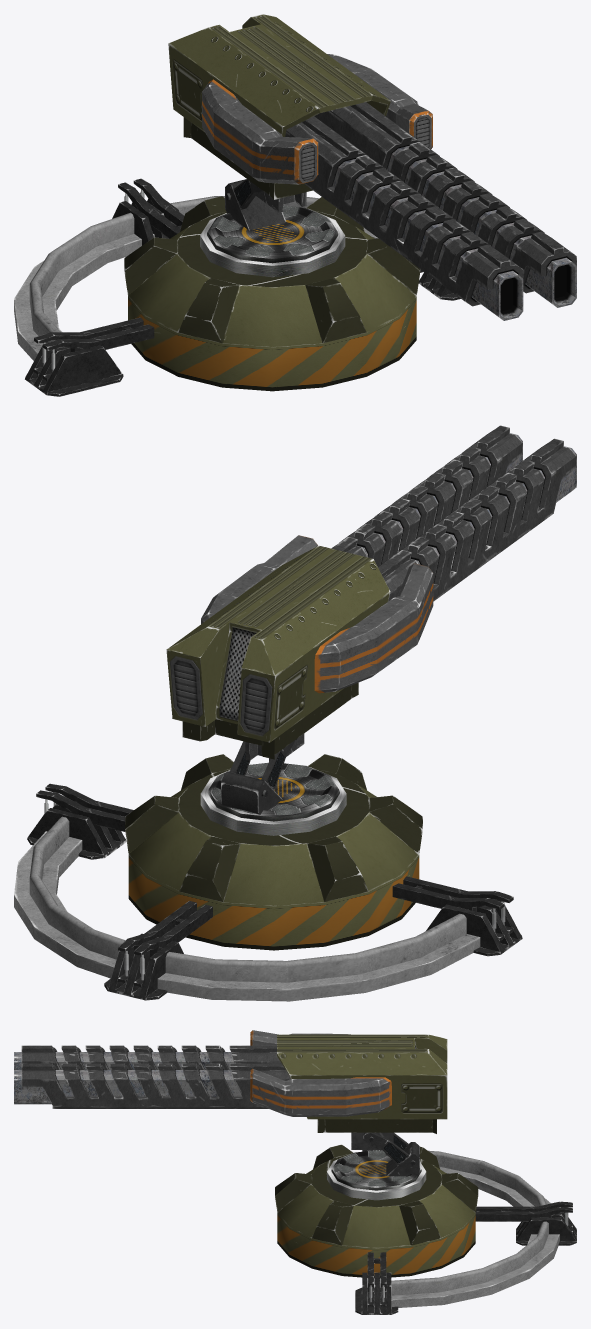
File: mini_turret_tower_10.fbx
3 renders of one model, top to bottom at view 1: azimuth 30°, elevation 25°; view 2: azimuth 150°, elevation 25°; view 3: azimuth 270°, elevation 25°, orthographic. The views are drawn at different scales.
Parts seen in each view (by area): view 1: body (×2), barrels, holder (×2), decor3, leg_bottom (×3), decor (×2), leg_arm (×2), decor2; view 2: body (×2), holder (×2), barrels, decor3, leg_arm (×3), leg_bottom (×3), decor (×2); view 3: body (×2), barrels, holder (×2), decor3, decor (×2), leg_bottom (×2), leg_arm (×2), decor2.
Boxes of the visible parts, x1,y1,x2,y2 form: body (×2): (124,14,420,391); barrels: (285,102,576,320); holder (×2): (14,196,378,360); decor3: (202,54,432,184); leg_bottom (×3): (25,199,460,396); decor (×2): (200,179,345,277); leg_arm (×2): (34,178,184,381); decor2: (255,191,306,212); body (×2): (125,545,422,950); holder (×2): (14,762,480,1001); barrels: (331,425,576,601); decor3: (201,535,433,693); leg_arm (×3): (36,783,513,987); leg_bottom (×3): (27,804,522,1000); decor (×2): (200,738,346,835); body (×2): (275,1034,478,1277); barrels: (14,1045,290,1108); holder (×2): (331,1150,559,1307); decor3: (250,1030,391,1116); decor (×2): (327,1132,426,1200); leg_bottom (×2): (355,1212,576,1314); leg_arm (×2): (367,1201,572,1306); decor2: (351,1132,393,1149).
Size of the model in its own units: 7.52 by 4.29 by 11.34.
